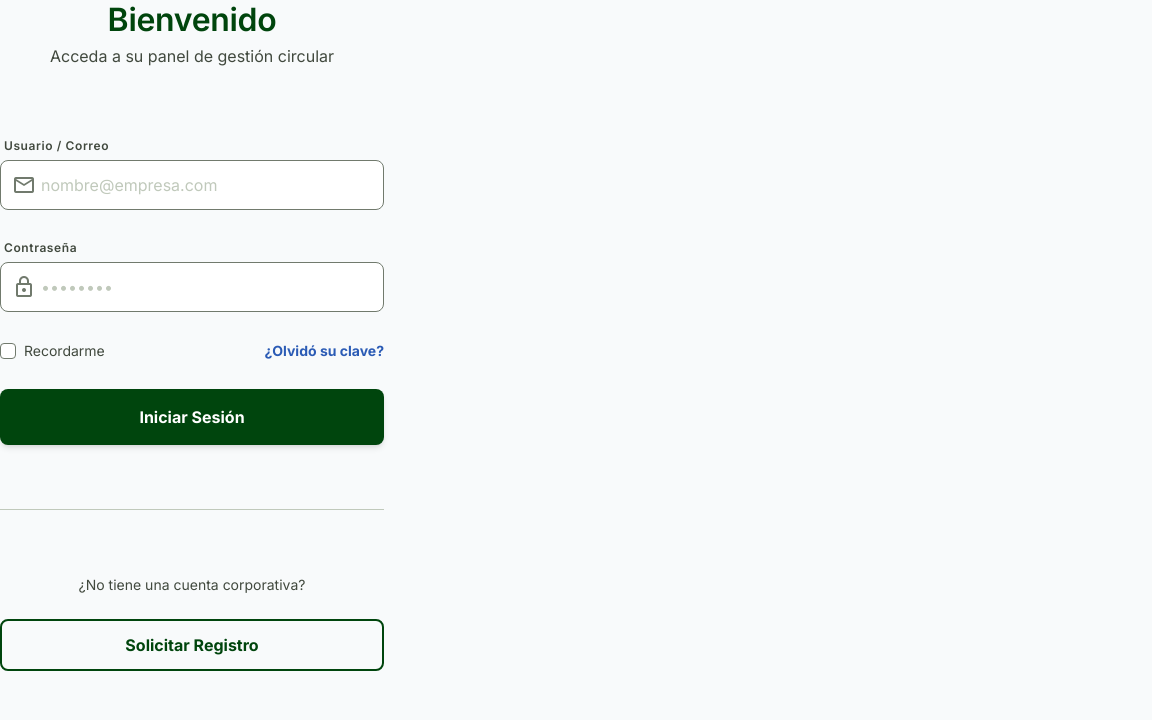
Scenario: LoginForm › muestra y cierra el modal de recuperación de contraseña
The image size is (1152, 720).
Click the button "¿Olvidó su clave?": [324, 350] box x1=264 y1=340 x2=384 y2=361
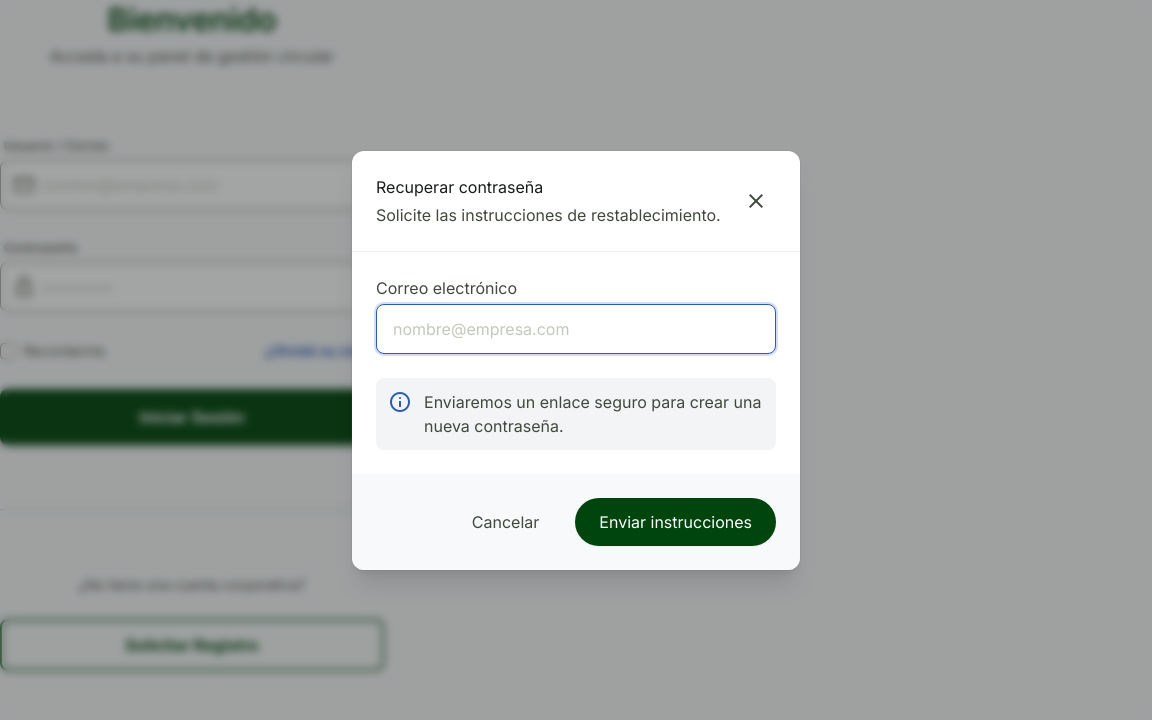
Now the dialog "Recuperar contraseña" is shown
Now the field labelled "Correo electrónico" is shown, box x1=376 y1=304 x2=776 y2=354
Click the button named "Cerrar recuperación de contraseña": [756, 200] box x1=736 y1=180 x2=776 y2=220
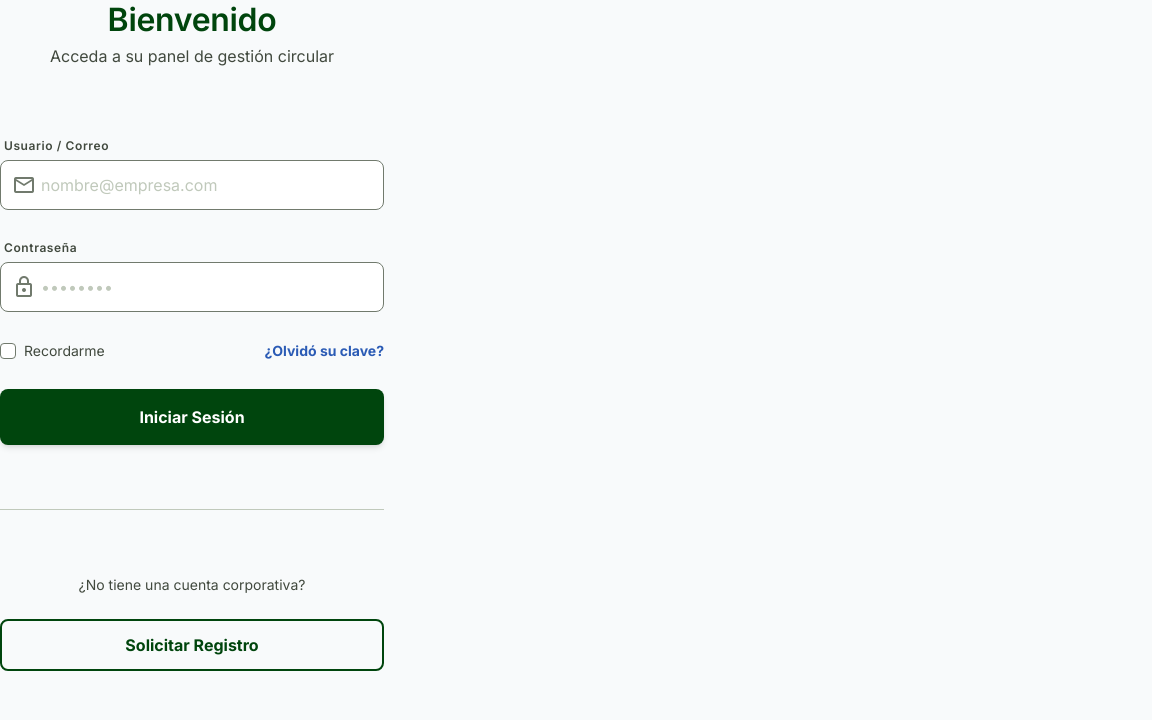
Now the dialog is gone
